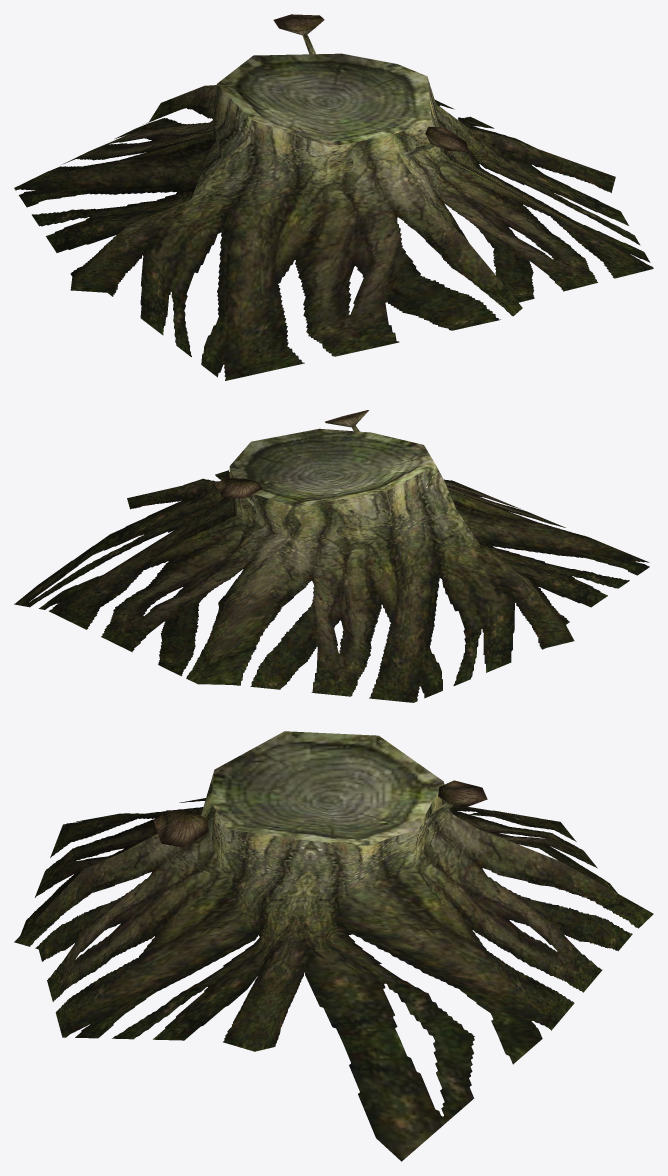
The model's file is tre_dead_tre01.glb.
3 renders of one model, top to bottom at view 1: azimuth 30°, elevation 25°; view 2: azimuth 150°, elevation 25°; view 3: azimuth 270°, elevation 25°, orthographic. The views are drawn at different scales.
Visible parts, largest first — view 1: tre_dead_tre01; view 2: tre_dead_tre01; view 3: tre_dead_tre01.
Part boxes in pixels (bbox=[...]): tre_dead_tre01: bbox=[14, 14, 653, 380]; tre_dead_tre01: bbox=[14, 410, 649, 702]; tre_dead_tre01: bbox=[14, 731, 653, 1161].
Bounding box in the file's own units: 8.49 × 3.08 × 7.81.
Materials: 1 (1 with a texture image).
